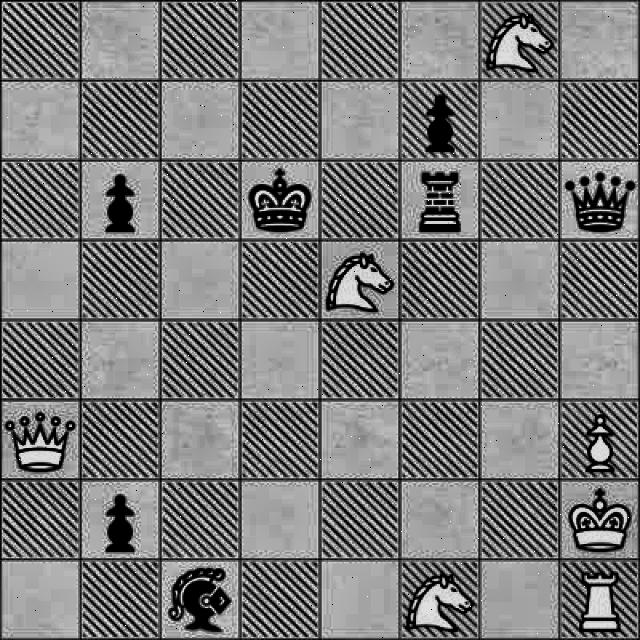black bishop: (165, 566, 238, 640)
black king: (244, 159, 314, 233)
black pawn: (404, 81, 472, 158), (86, 484, 150, 558), (94, 162, 150, 238)
black queen: (564, 160, 640, 237)
black rook: (402, 164, 474, 237)
white king: (564, 482, 638, 554)
white pawn: (568, 406, 624, 478)
white queen: (2, 404, 80, 478)
white rook: (570, 572, 628, 640)
whiteknight: (482, 0, 556, 78), (322, 238, 392, 320), (406, 558, 474, 636)
